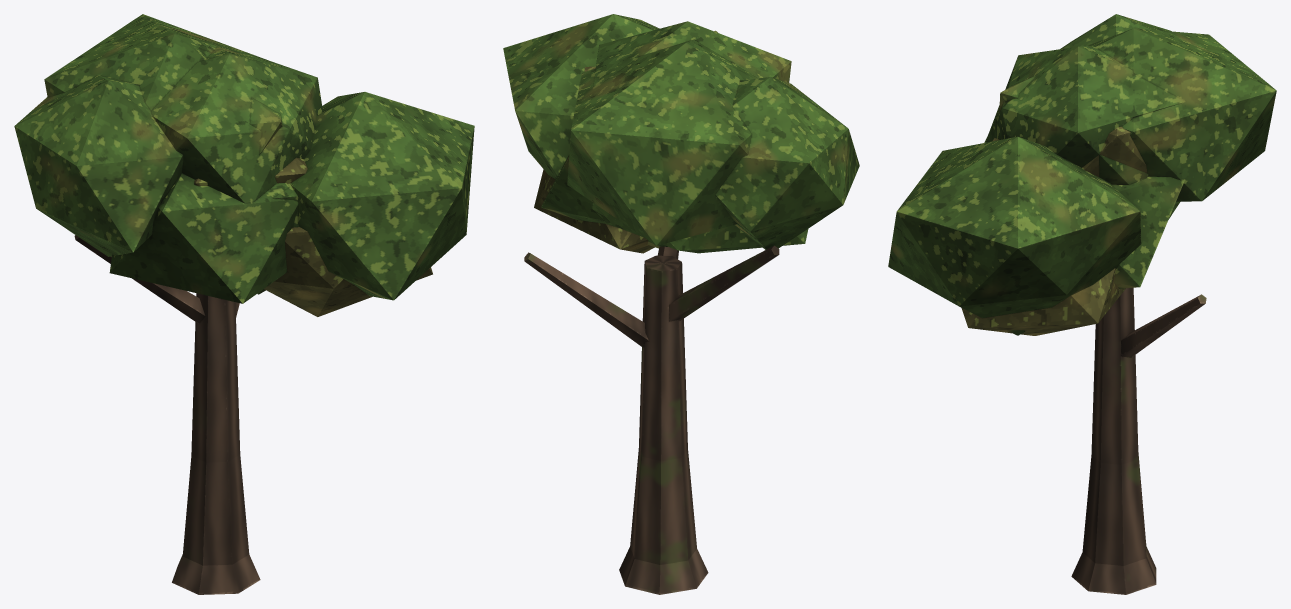
The model's file is Arbol_Invasor.glb.
The picture shows the model from 3 angles, left to right: view 1: azimuth 30°, elevation 25°; view 2: azimuth 150°, elevation 25°; view 3: azimuth 270°, elevation 25°; orthographic projection. The views are drawn at different scales.
Parts seen in each view (by area): view 1: Arbol_Invasor; view 2: Arbol_Invasor; view 3: Arbol_Invasor.
Part boxes in pixels (left/top/right/bottom): Arbol_Invasor: left=14, top=14, right=474, bottom=594; Arbol_Invasor: left=503, top=14, right=859, bottom=594; Arbol_Invasor: left=888, top=14, right=1276, bottom=594.
Bounding box in the file's own units: 9.81 × 13.13 × 8.68.
1 material, 1 textured.
